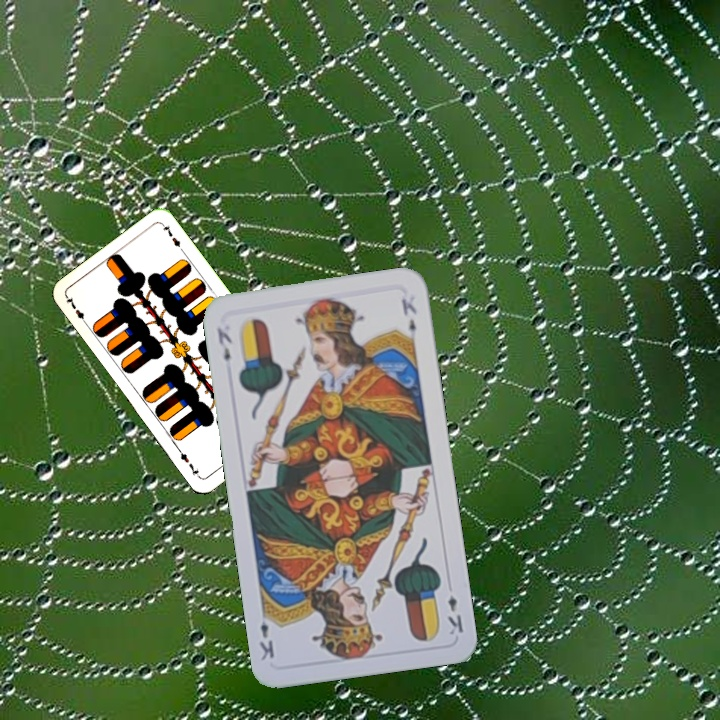E7: (62, 293, 91, 328)
EK: (443, 578, 466, 638), (213, 323, 235, 364)
